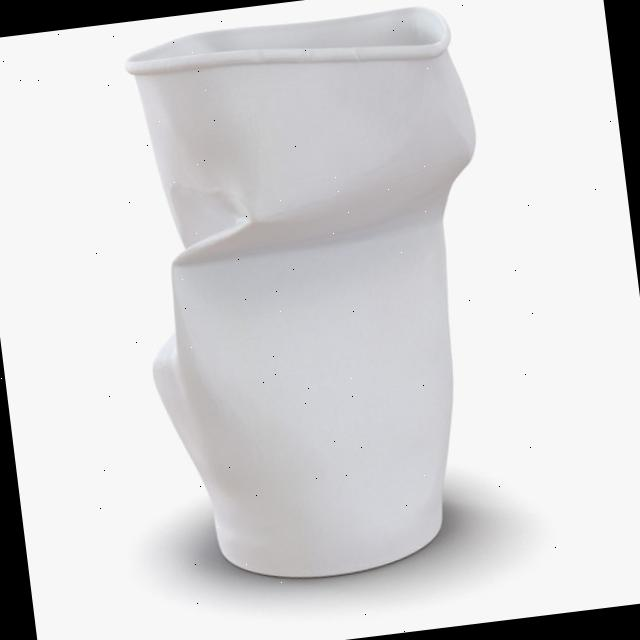trash: (107, 0, 530, 594)
